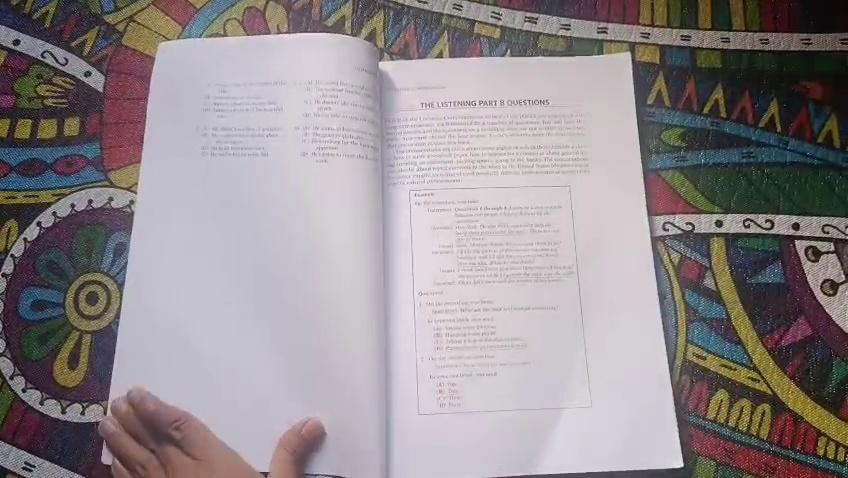Kertas: (366, 52, 671, 478), (124, 31, 395, 478)
